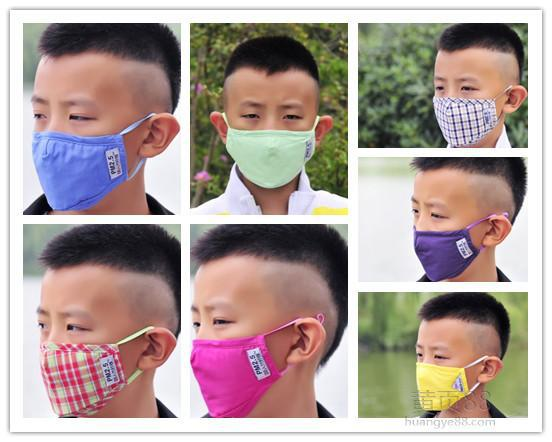OK: (186, 294, 312, 414), (30, 87, 155, 207), (32, 300, 148, 416), (227, 98, 314, 185), (435, 65, 514, 144), (414, 340, 484, 410)
WRONG: (411, 191, 505, 283)
